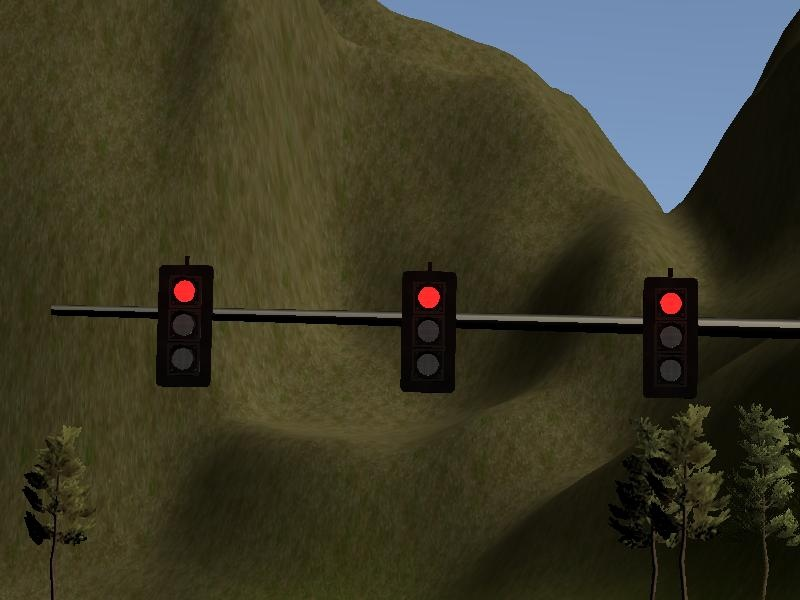RED: (156, 266, 214, 388), (403, 270, 456, 392), (644, 276, 697, 398)
